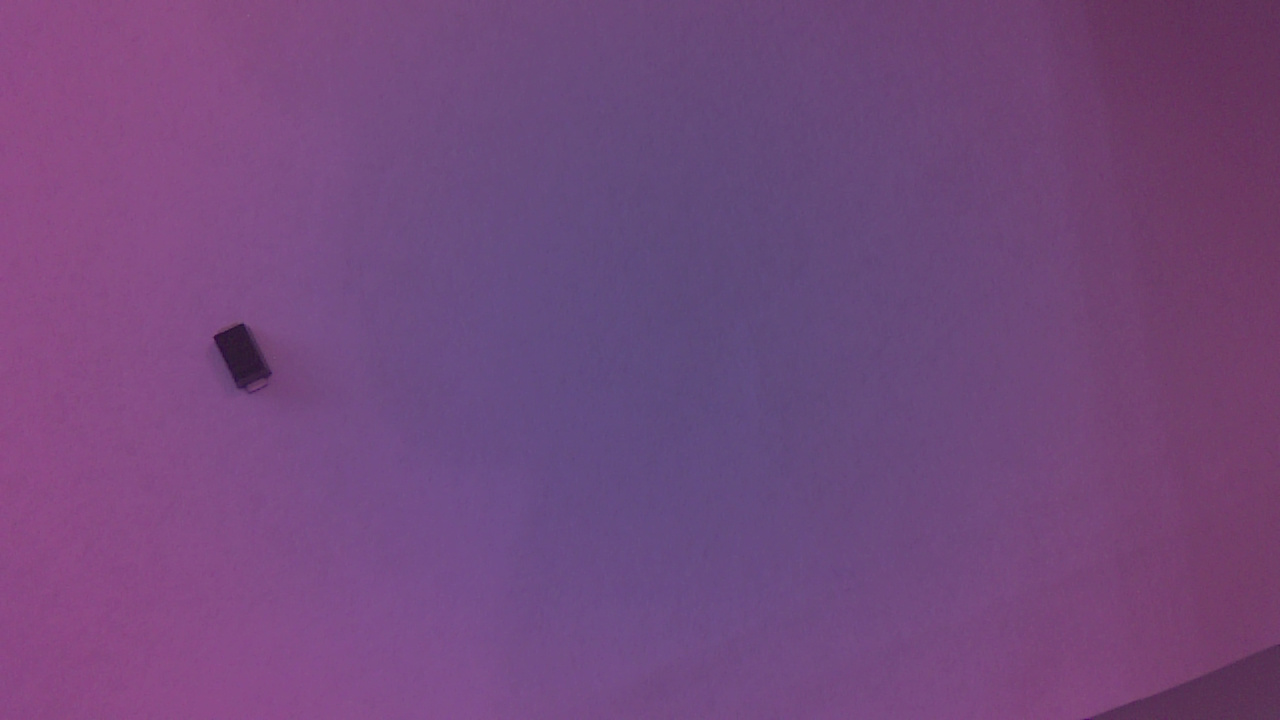Diode: (215, 322, 279, 409)
